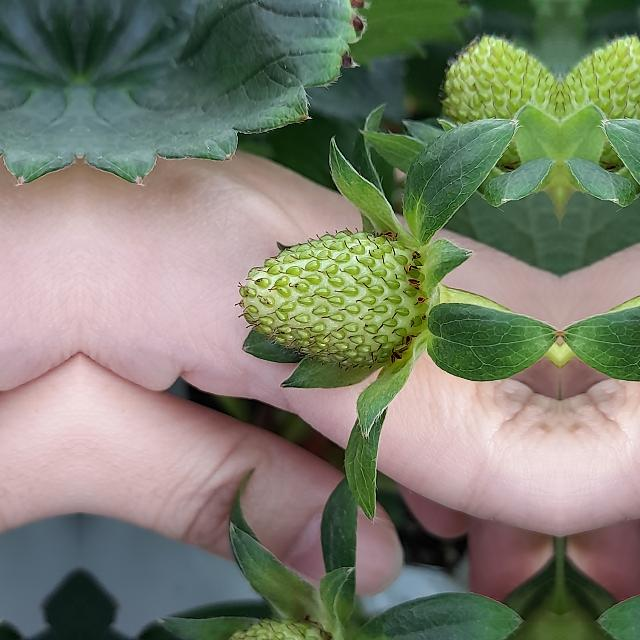Health_25: (233, 226, 424, 370)
